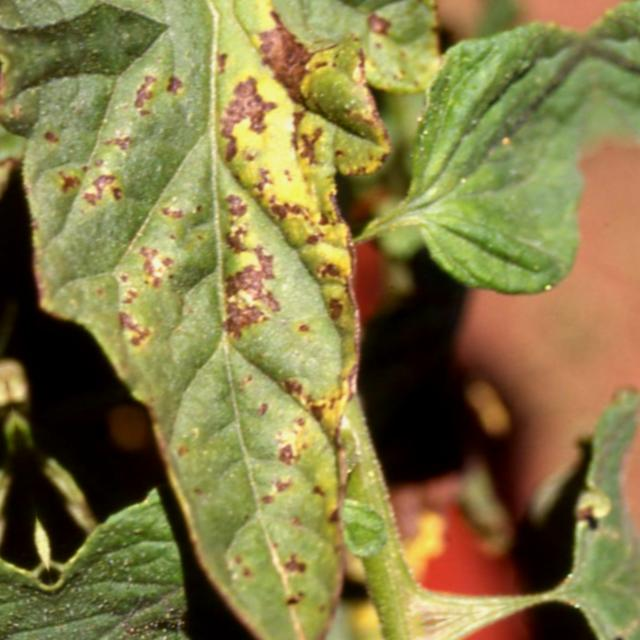Tomato leaf bacterial spot: (0, 0, 566, 640), (324, 0, 640, 343)
